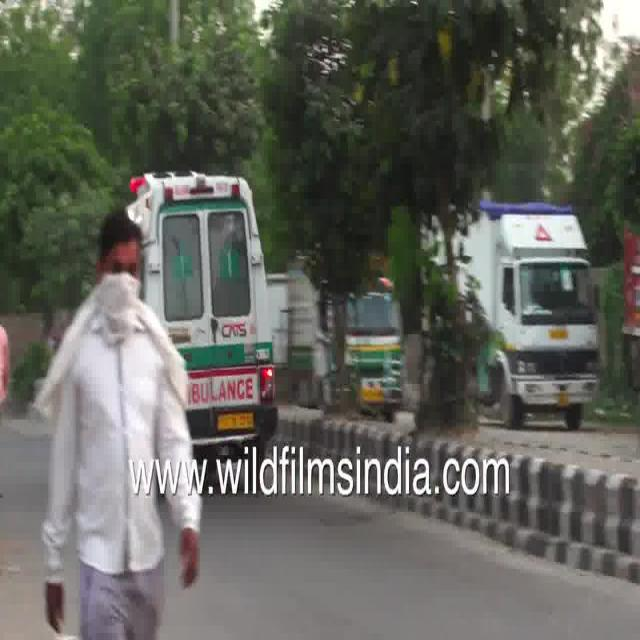ambulance: (142, 149, 290, 435)
